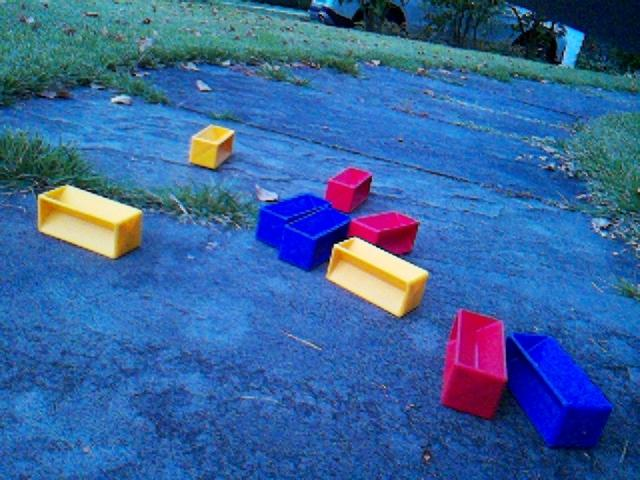blue: (505, 329, 614, 451), (278, 206, 352, 271), (255, 192, 332, 250)
red: (440, 307, 509, 420), (347, 210, 421, 256), (324, 166, 373, 214)
yellow: (325, 235, 430, 319), (36, 183, 144, 260), (188, 123, 236, 171)
